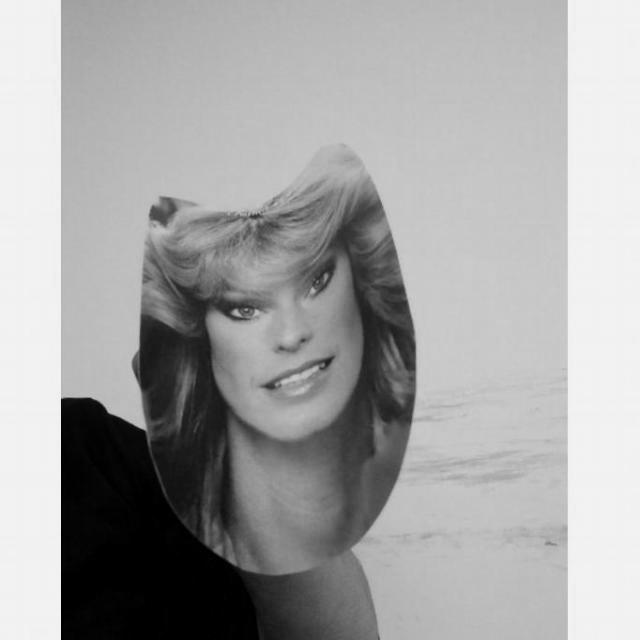fake: (131, 139, 416, 577)
